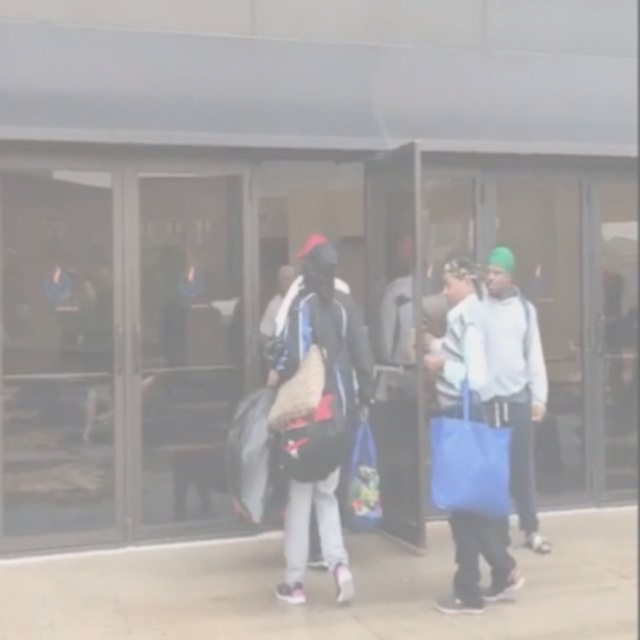pessoa: (213, 228, 392, 577), (42, 242, 214, 524), (265, 240, 378, 606), (423, 245, 555, 556), (416, 251, 528, 617), (371, 222, 421, 405), (588, 262, 640, 413), (258, 263, 296, 348)
